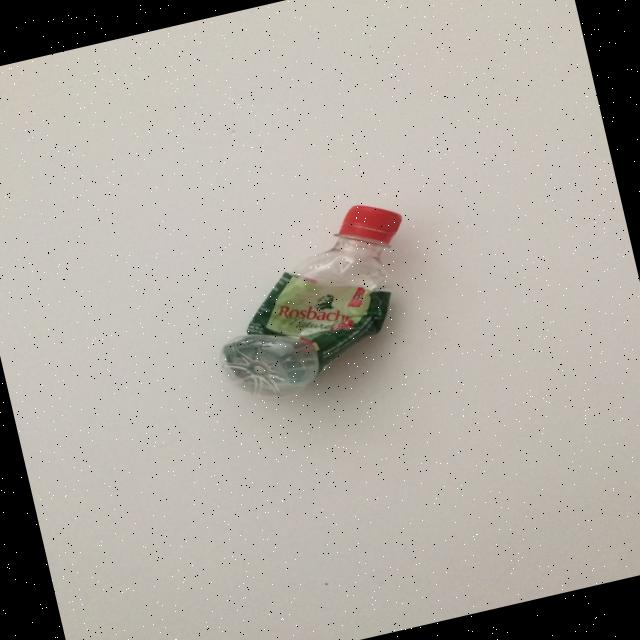plastic: (192, 194, 436, 410)
